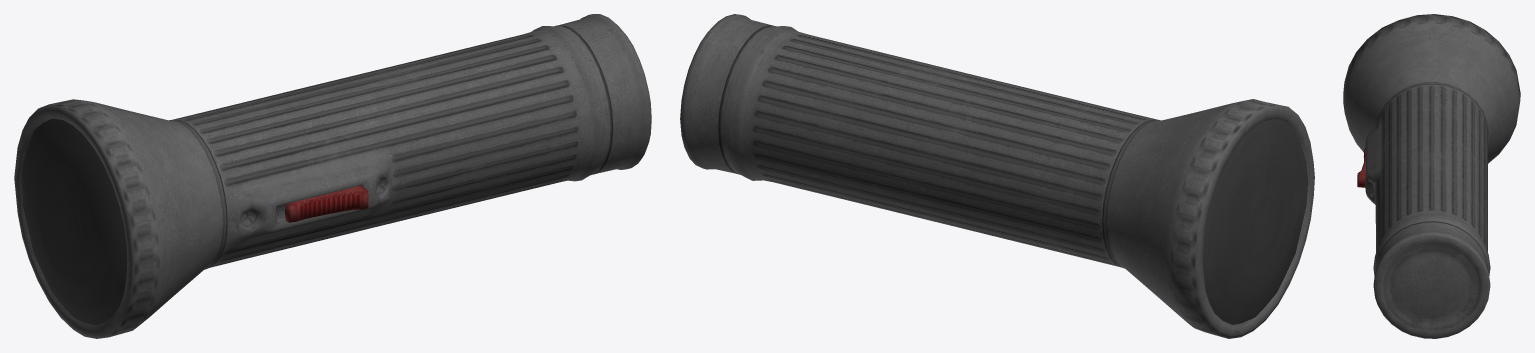
Rendered from flashlight.fbx.
3 views of the same model, side by side, from view 1: azimuth 30°, elevation 25°; view 2: azimuth 150°, elevation 25°; view 3: azimuth 270°, elevation 25° (orthographic). The views are drawn at different scales.
Visible parts, largest first — view 1: Object_3, Object_4; view 2: Object_3, Object_4; view 3: Object_3.
Boxes of the visible parts, <box> form: Object_3: <box>14,14,651,338</box>; Object_4: <box>21,118,127,325</box>; Object_3: <box>680,14,1314,338</box>; Object_4: <box>1202,119,1307,324</box>; Object_3: <box>1343,14,1520,338</box>.
Size of the model in its own units: 53093 by 20186 by 20299.
2 materials, 2 textured.
